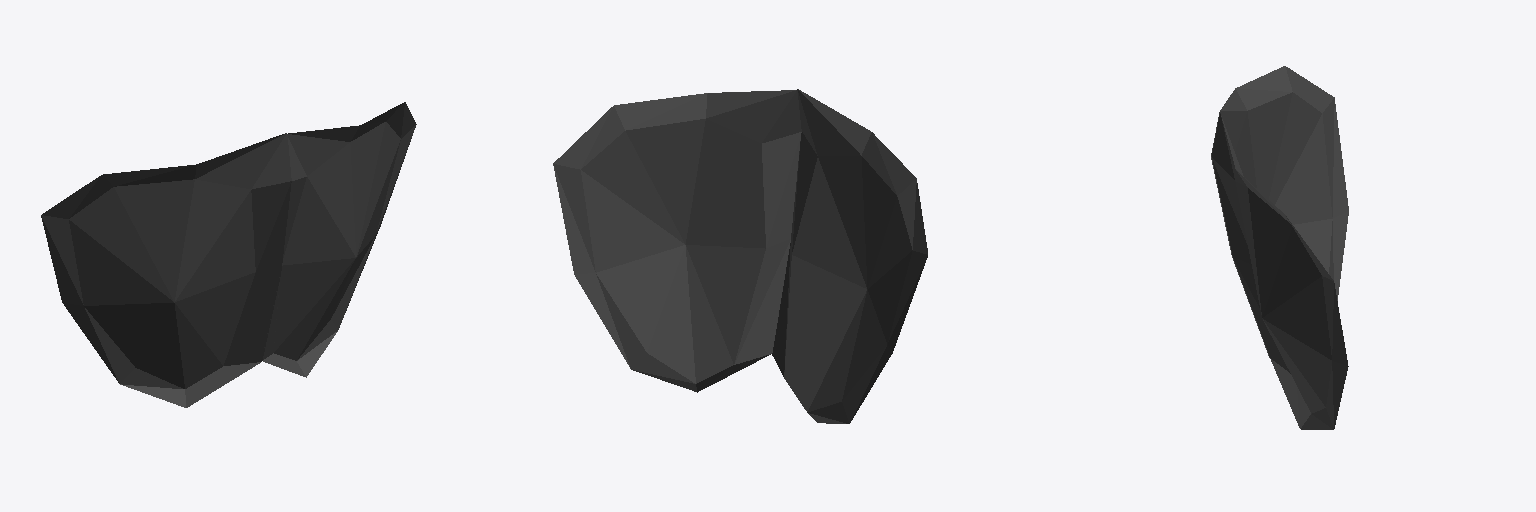
File: Eyes.obj
3 renders of one model, left to right at view 1: azimuth 30°, elevation 25°; view 2: azimuth 150°, elevation 25°; view 3: azimuth 270°, elevation 25°, orthographic.
Parts seen in each view (by area): view 1: Inst3D_RefRep.225_Ref; view 2: Inst3D_RefRep.225_Ref; view 3: Inst3D_RefRep.225_Ref.
Part boxes in pixels (bbox=[...]): Inst3D_RefRep.225_Ref: bbox=[41, 102, 416, 407]; Inst3D_RefRep.225_Ref: bbox=[553, 89, 927, 423]; Inst3D_RefRep.225_Ref: bbox=[1211, 66, 1348, 429].
Bounding box in the file's own units: 1.65 × 1.22 × 0.5257.